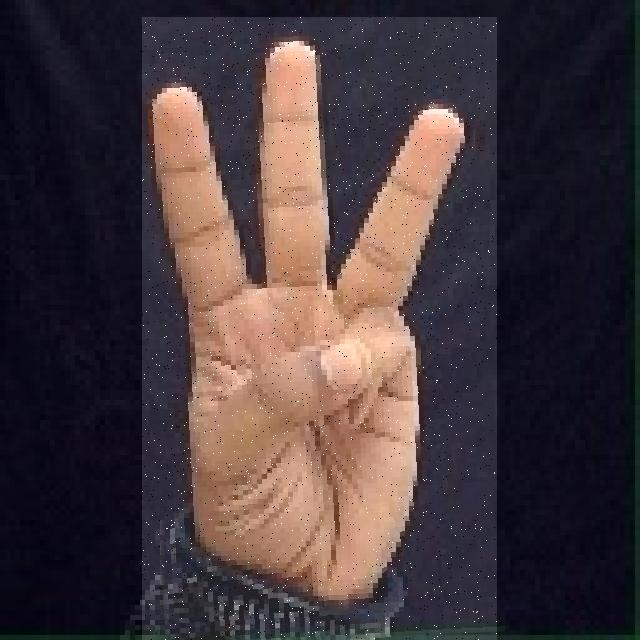Please: (142, 17, 497, 640)
